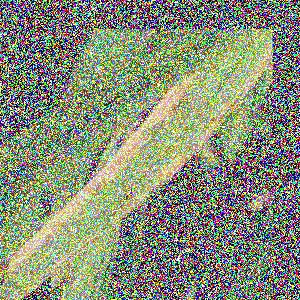Leaf_Blast: (122, 87, 196, 199)
